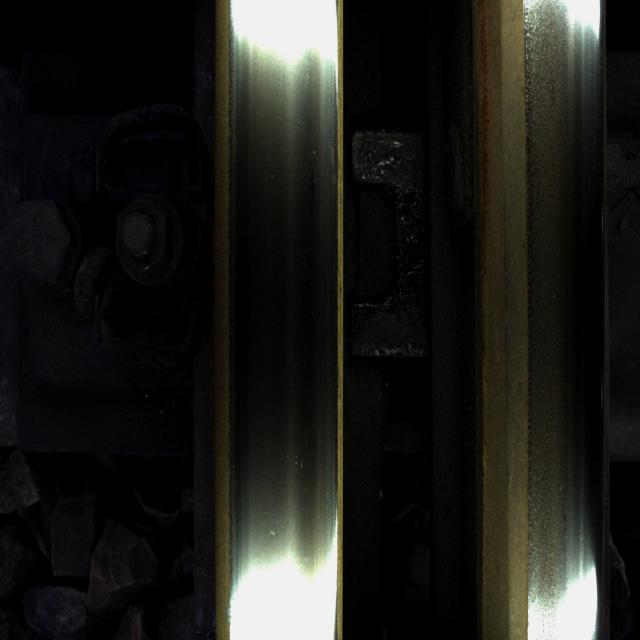break: (238, 41, 328, 616)
normal: (530, 5, 602, 591)
